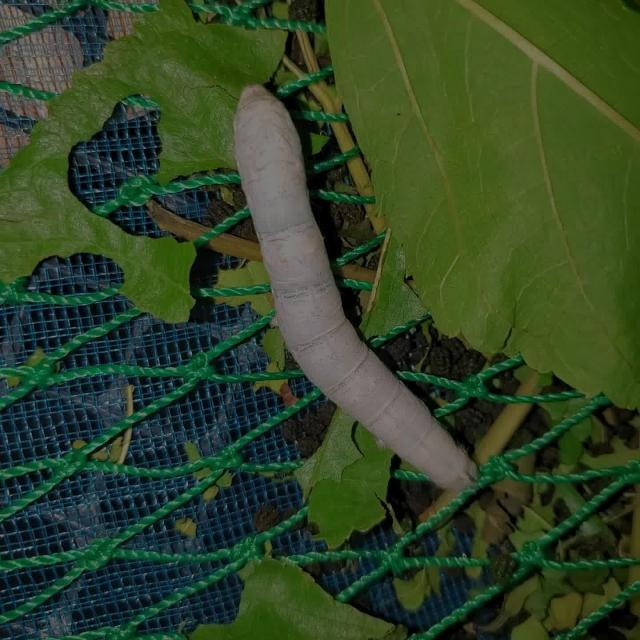Healthy: (208, 46, 509, 504)
